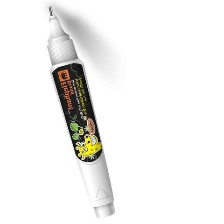correction_fluid: (43, 3, 115, 221)
